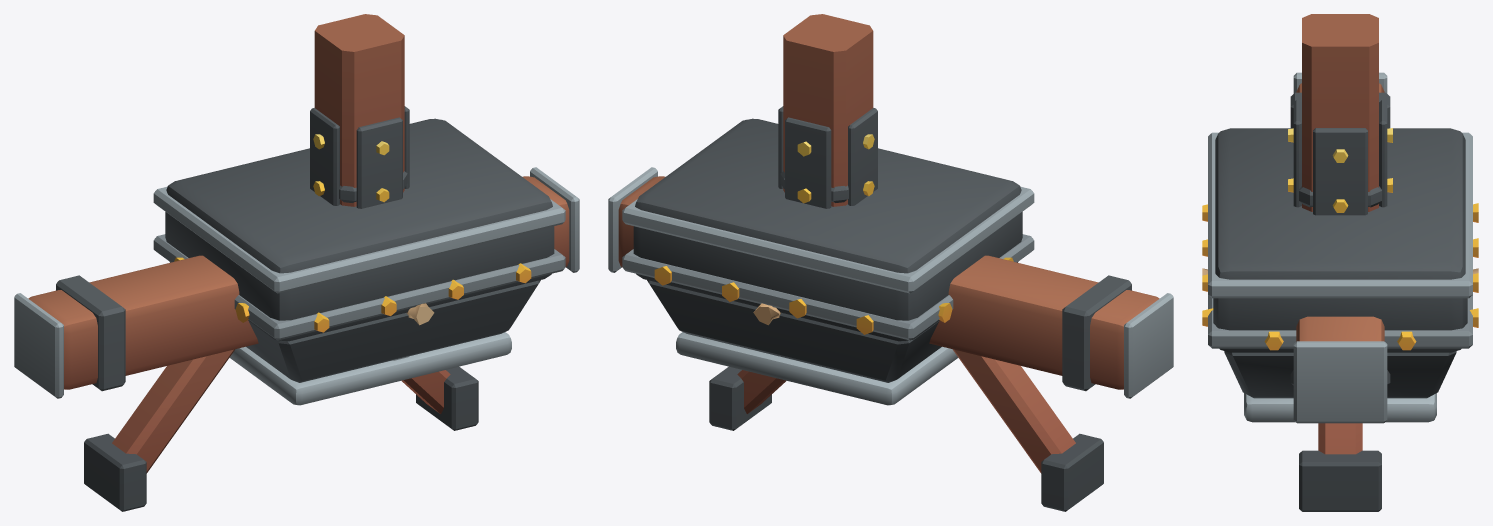
File: trip_hammer_parts.glb
3 views of the same model, side by side, from view 1: azimuth 30°, elevation 25°; view 2: azimuth 150°, elevation 25°; view 3: azimuth 270°, elevation 25° (orthographic). The views are drawn at different scales.
Parts seen in each view (by area): view 1: Head, Beam, PostShaft, PostFoot; view 2: Head, Beam, PostShaft, PostFoot; view 3: Head, Beam, PostShaft, PostFoot.
Boxes of the visible parts, x1=… form: Head: x1=153, y1=118, x2=565, y2=405; Beam: x1=14, y1=167, x2=579, y2=511; PostShaft: x1=314, y1=14, x2=404, y2=206; PostFoot: x1=310, y1=106, x2=409, y2=208; Head: x1=622, y1=118, x2=1034, y2=405; Beam: x1=608, y1=167, x2=1173, y2=511; PostShaft: x1=783, y1=14, x2=873, y2=206; PostFoot: x1=778, y1=106, x2=877, y2=208; Head: x1=1202, y1=128, x2=1478, y2=422; Beam: x1=1290, y1=72, x2=1390, y2=511; PostShaft: x1=1302, y1=14, x2=1378, y2=211; PostFoot: x1=1288, y1=100, x2=1392, y2=215.
Size of the model in its own units: 2.34 by 1.72 by 1.
1 material, 1 textured.
